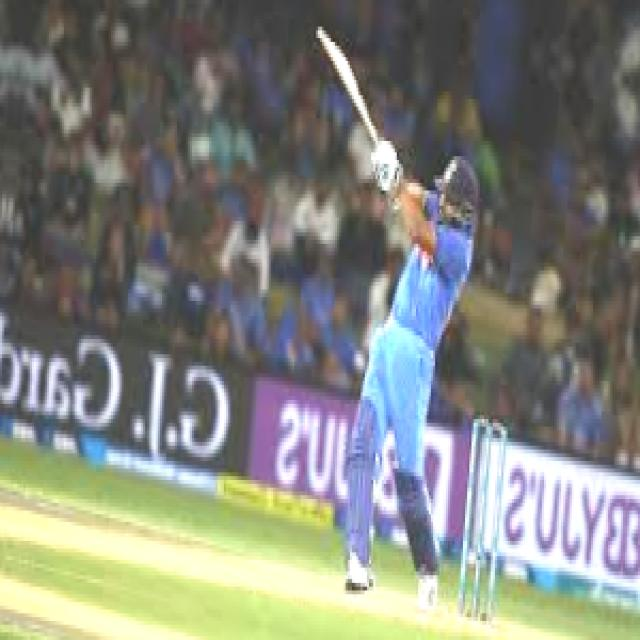toe: (308, 26, 337, 52)
